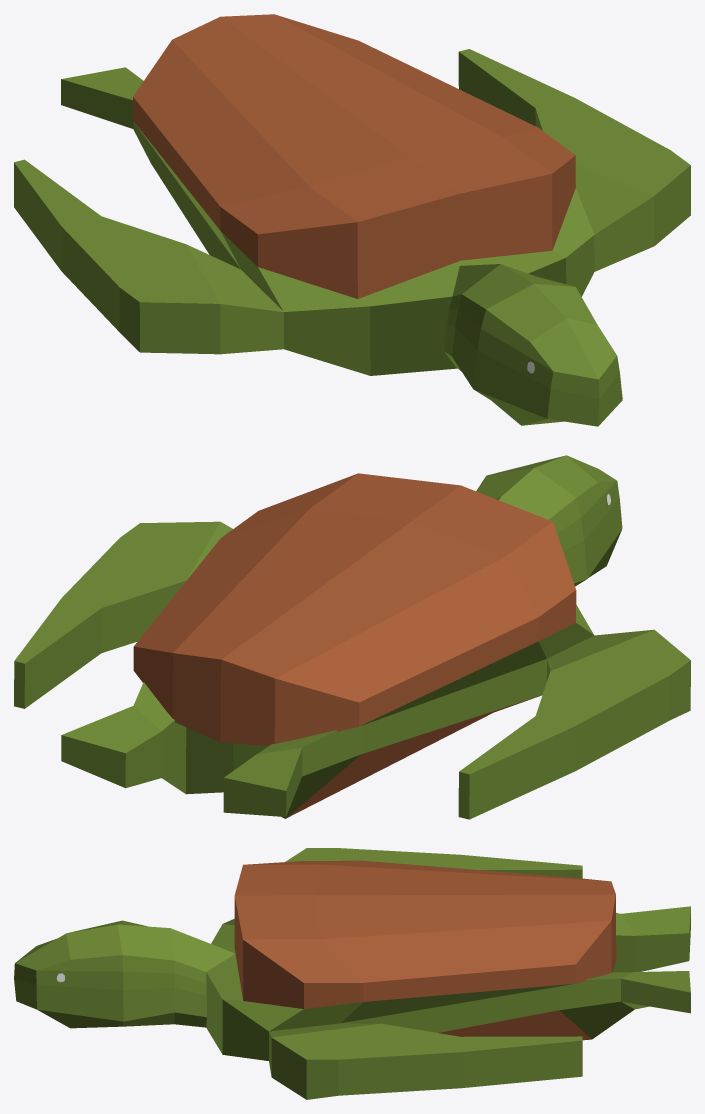
File: turtle.fbx
3 views of the same model, one above another, from view 1: azimuth 30°, elevation 25°; view 2: azimuth 150°, elevation 25°; view 3: azimuth 270°, elevation 25° (orthographic). The views are drawn at different scales.
Parts seen in each view (by area): view 1: turtle; view 2: turtle; view 3: turtle.
Part boxes in pixels (x1,y1,x2,y2): turtle: (14,14,690,426); turtle: (14,455,690,819); turtle: (14,848,690,1099).
Bounding box in the file's own units: 267 × 81.23 × 358.
1 material, 1 textured.
